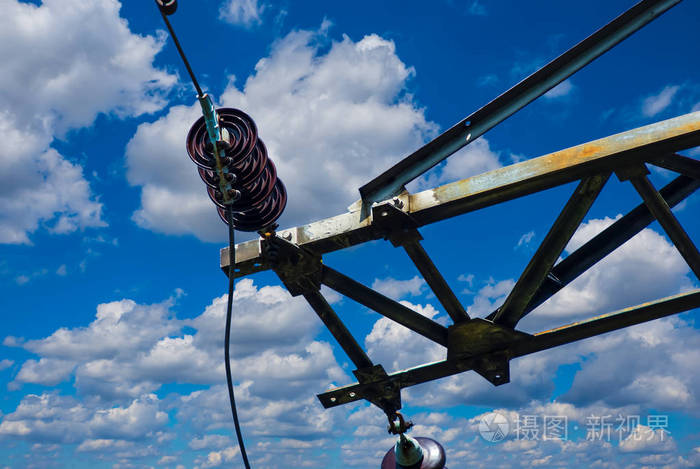insulator: (188, 107, 291, 231)
